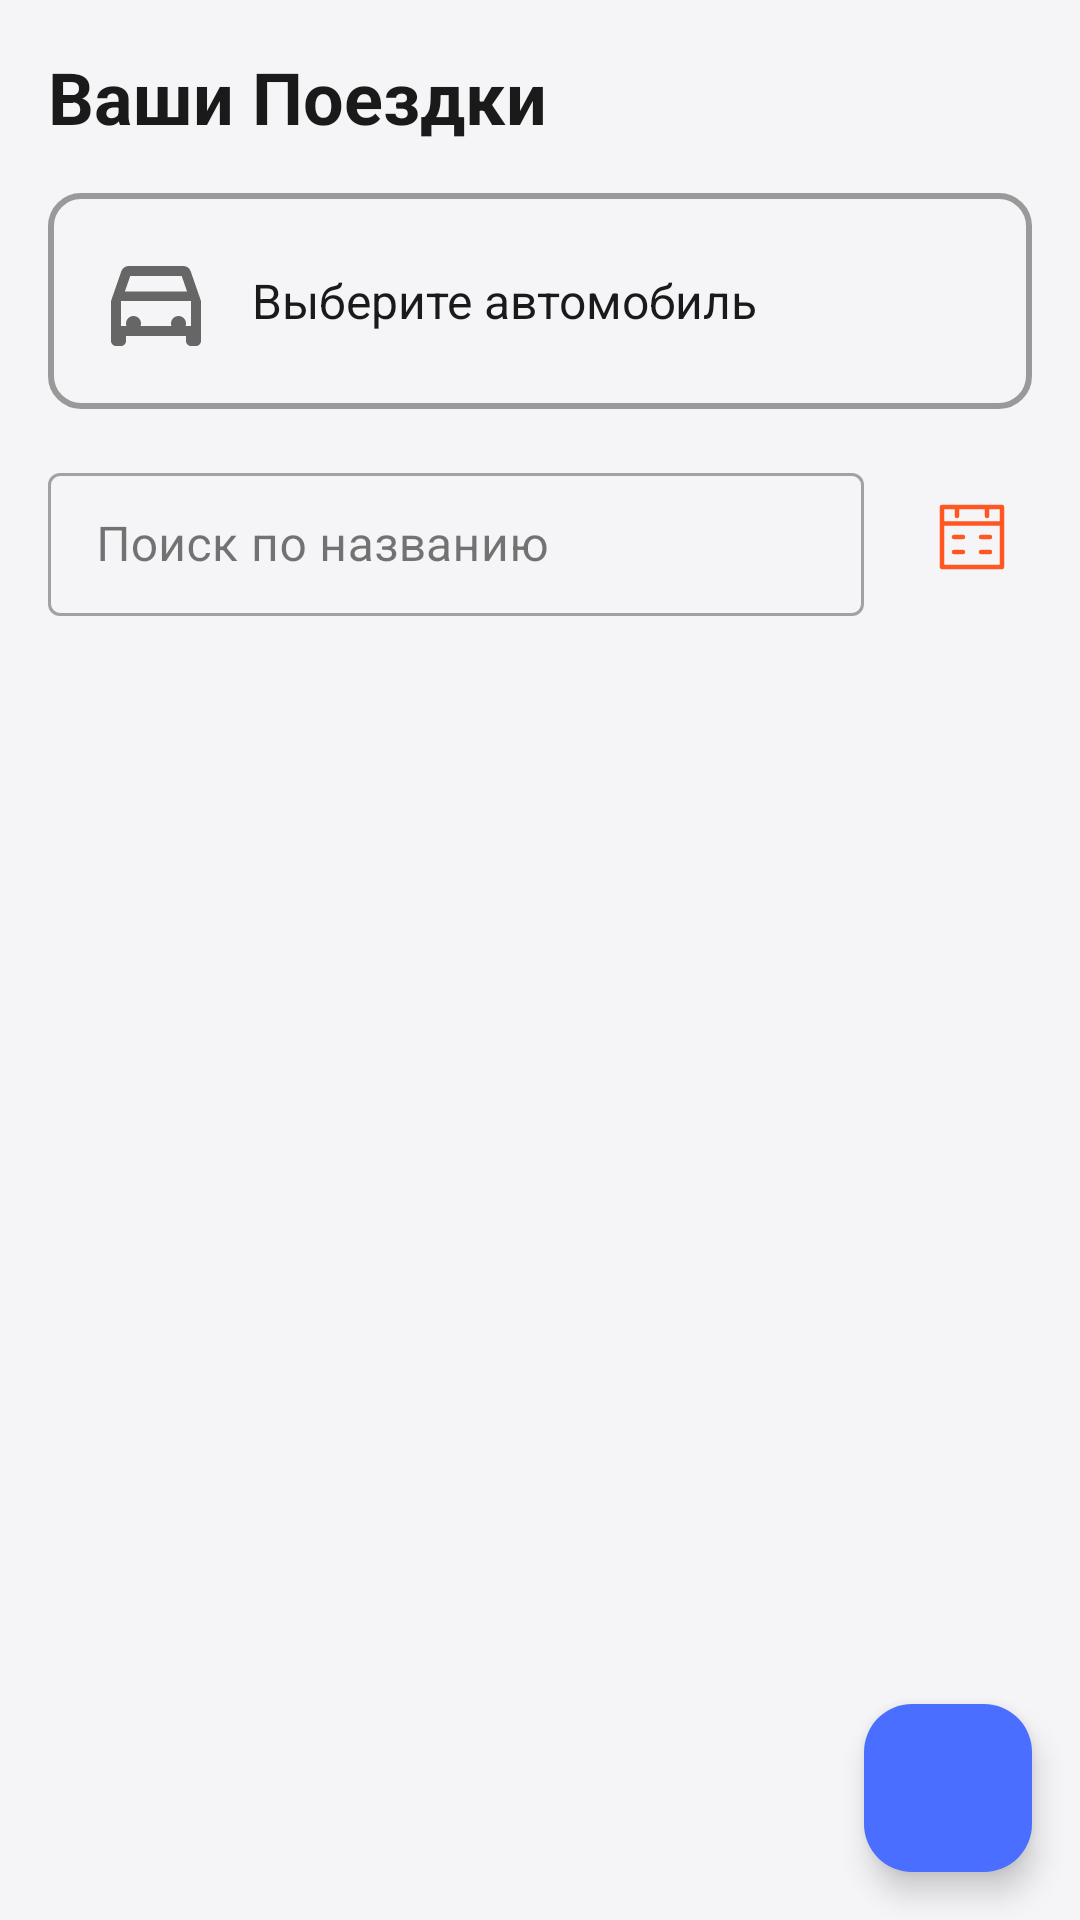

Named icons in this screenshot (1080×1920) and their bounding boxes, (x1, y1, x2, y2):
car: (111, 266, 201, 346)
Фильтрация по дате: (939, 504, 1005, 570)
